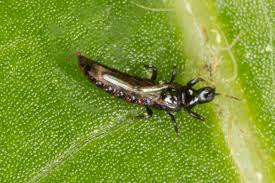Phlaeothripidae: (76, 51, 243, 138)
